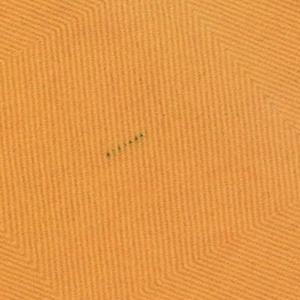stain: (100, 131, 149, 163)
